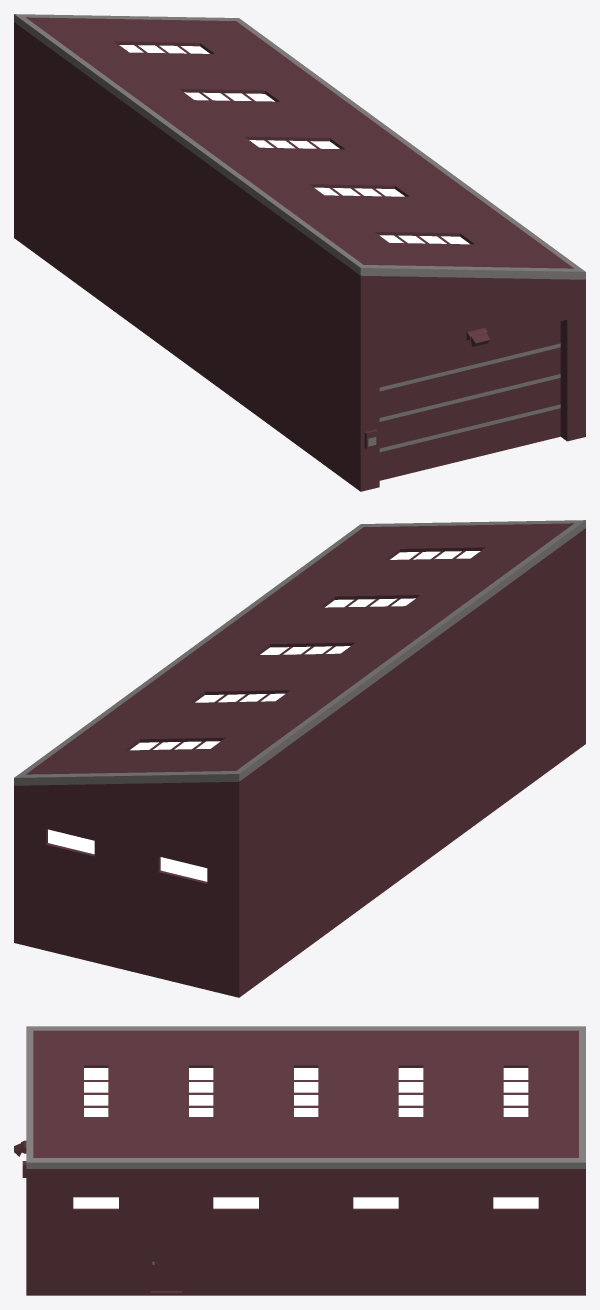
The model's file is buildings-industry-storage.glb.
3 views of the same model, one above another, from view 1: azimuth 30°, elevation 25°; view 2: azimuth 150°, elevation 25°; view 3: azimuth 270°, elevation 25° (orthographic). The views are drawn at different scales.
Visible parts, largest first — view 1: industry-storage; view 2: industry-storage; view 3: industry-storage.
Boxes of the visible parts, x1,y1,x2,y2 form: industry-storage: (14, 14, 585, 491); industry-storage: (14, 520, 585, 997); industry-storage: (14, 1026, 585, 1295).
Bounding box in the file's own units: 6 × 5.7 × 16.35.
